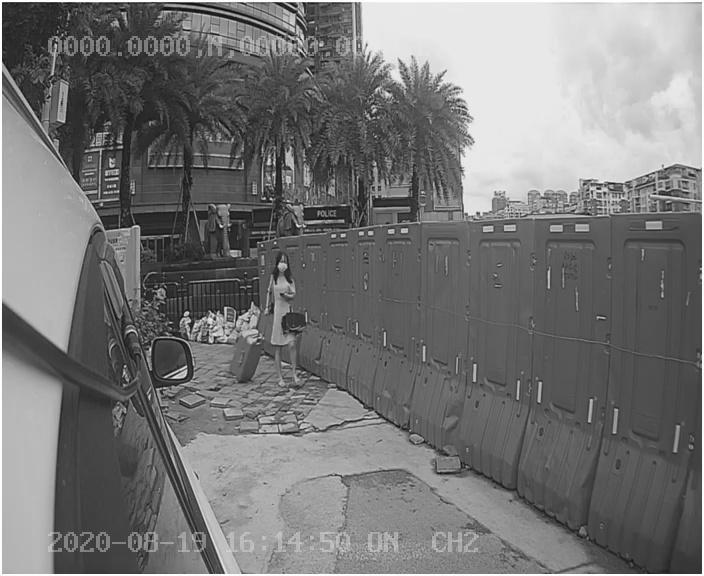person: (257, 248, 319, 397)
